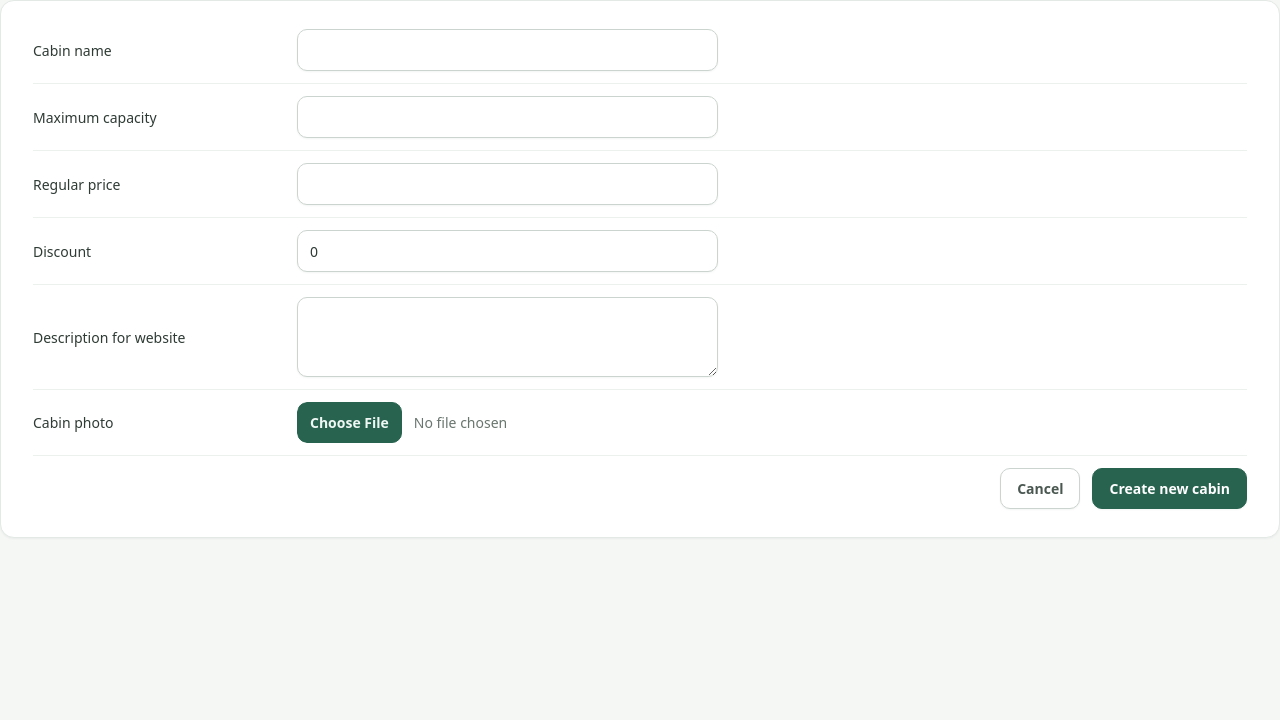
CreateCabinForm › blocks an empty create form and shows required validation
Click the button "Create new cabin". click: coordinates (1170, 488)
box: [1092,468,1247,509]
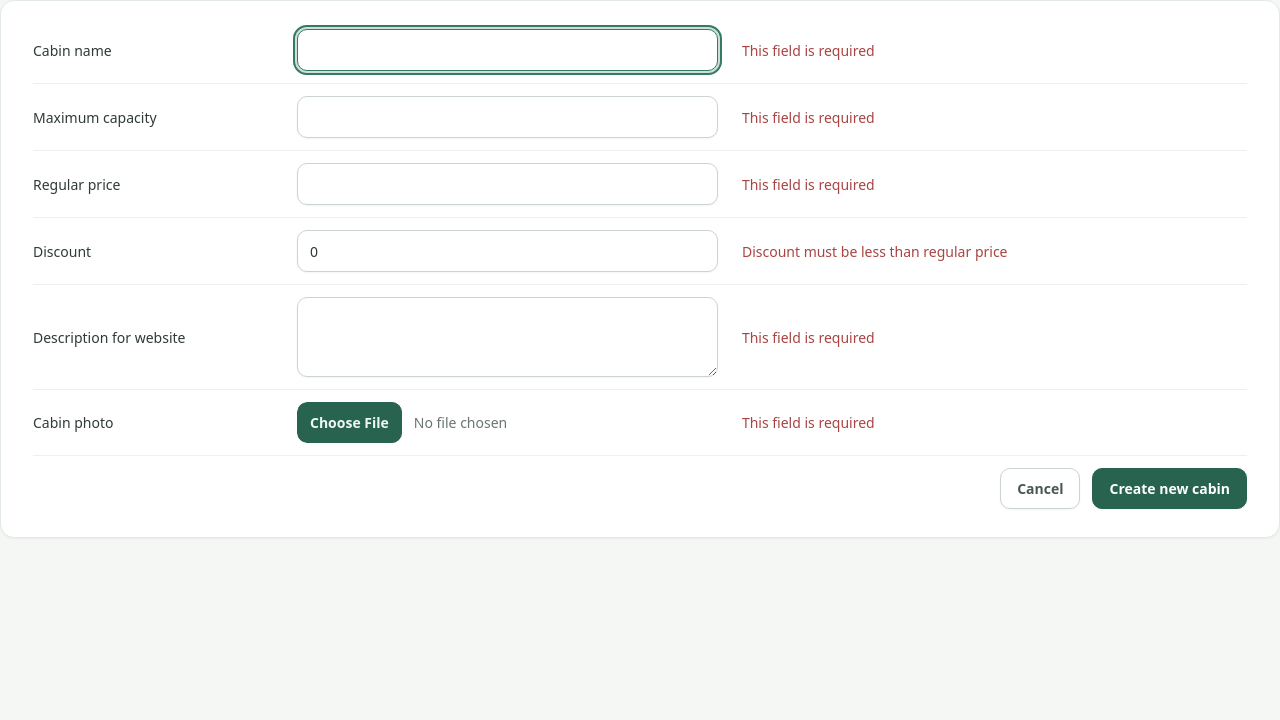
Result: the text "This field is required" in the row of "Cabin name" is shown at [742,40,875,60]
